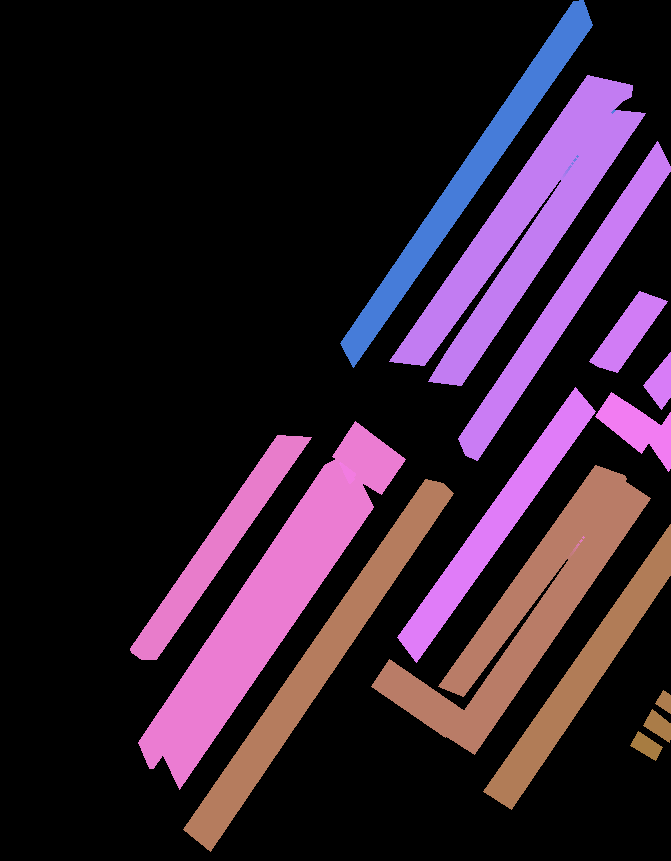parkingspot: (183, 479, 453, 851), (340, 0, 592, 367), (389, 75, 632, 365), (458, 141, 671, 460), (163, 475, 373, 789), (138, 458, 349, 768), (428, 110, 645, 385), (446, 480, 650, 754), (397, 387, 595, 662), (483, 523, 671, 809), (438, 465, 626, 696), (130, 435, 311, 659), (371, 659, 463, 737), (589, 291, 667, 372), (595, 392, 660, 453), (353, 441, 405, 494), (332, 421, 381, 474), (643, 351, 671, 409), (649, 411, 671, 471), (630, 731, 662, 760), (643, 709, 671, 742), (655, 690, 671, 713)
